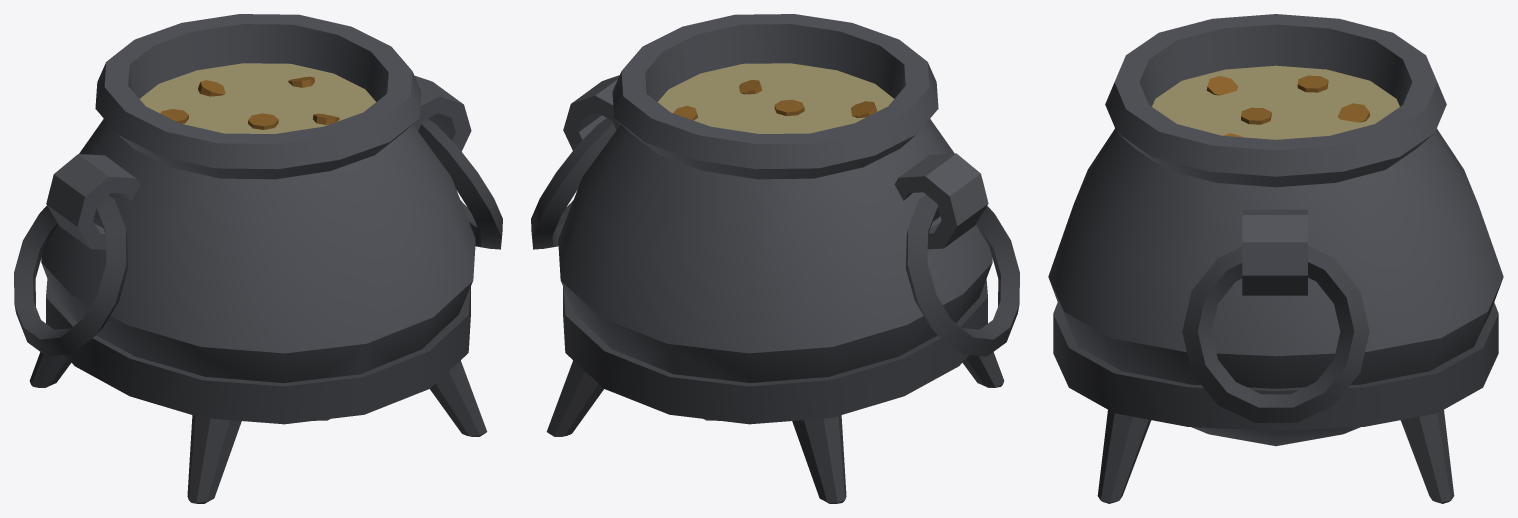
Rendered from quaternius-medieval-village-cauldron.glb.
3 renders of one model, left to right at view 1: azimuth 30°, elevation 25°; view 2: azimuth 150°, elevation 25°; view 3: azimuth 270°, elevation 25°, orthographic. The views are drawn at different scales.
Parts seen in each view (by area): view 1: Cauldron; view 2: Cauldron; view 3: Cauldron.
Part boxes in pixels (left/top/right/bottom): Cauldron: left=14, top=14, right=502, bottom=503; Cauldron: left=531, top=14, right=1019, bottom=503; Cauldron: left=1048, top=14, right=1503, bottom=503.
Size of the model in its own units: 0.3607 by 0.2518 by 0.2988.
